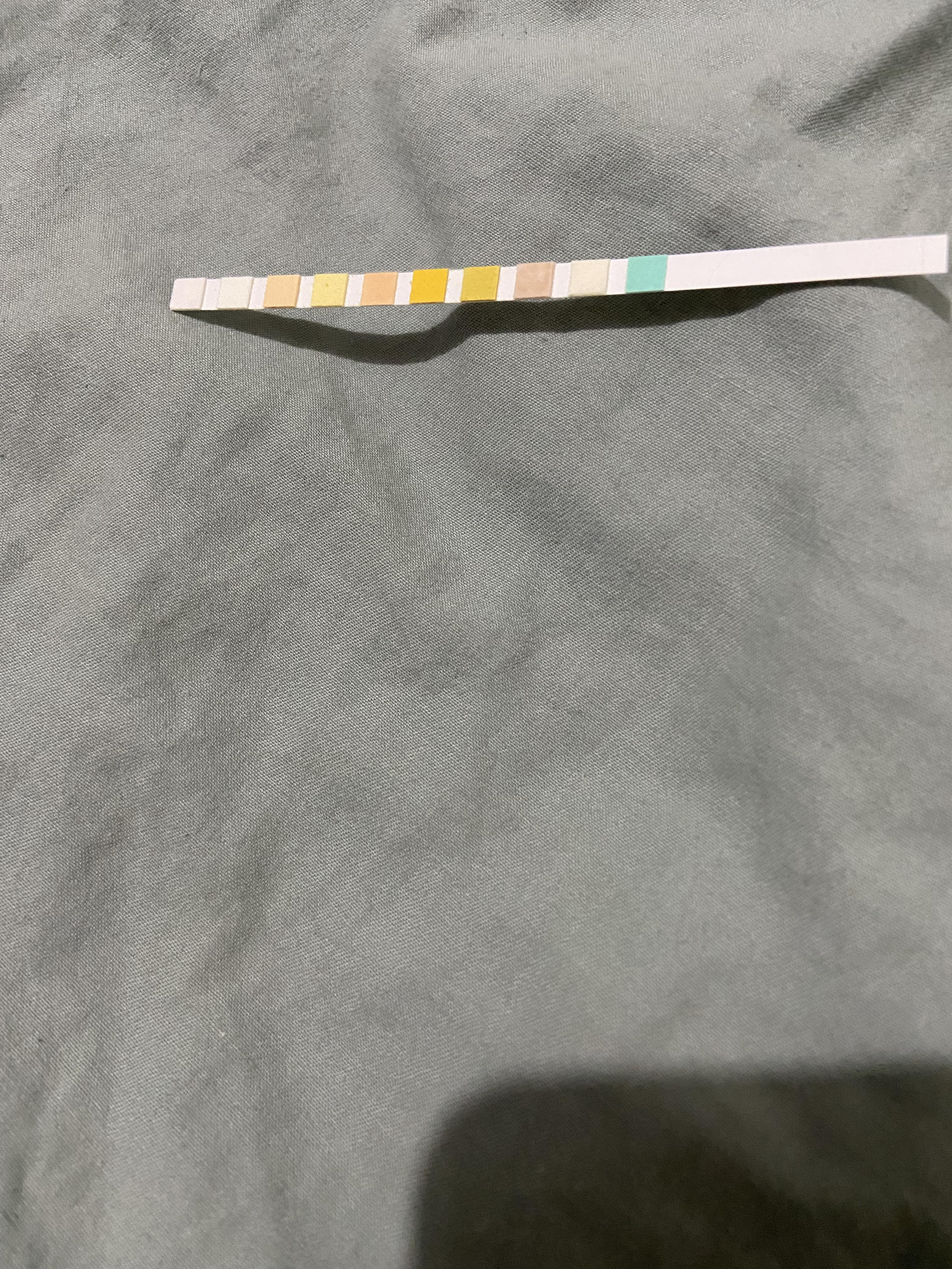Bilirubin: (573, 261, 607, 295)
Blood: (414, 271, 444, 301)
Glucose: (630, 257, 665, 291)
Ketone: (518, 264, 551, 298)
Leukocytes: (177, 279, 201, 310)
Nitrite: (224, 277, 249, 309)
Protein: (316, 274, 344, 306)
SpGravity: (465, 268, 496, 299)
Urobilinogen: (270, 276, 294, 307)
pH: (365, 274, 394, 304)
strip: (169, 235, 948, 311)
